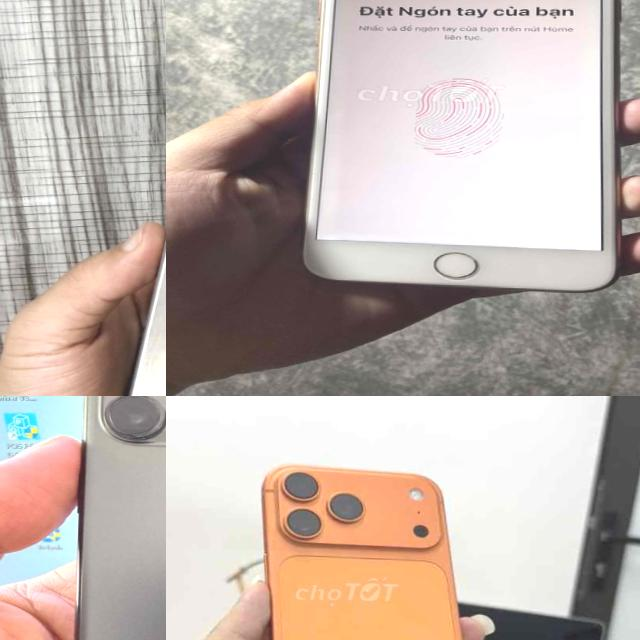gen_11: (57, 396, 166, 640)
gen_15: (125, 1, 166, 396)
gen_17: (253, 457, 501, 640)
gen_7_8: (303, 0, 640, 296)
scratch: (96, 396, 166, 447)
